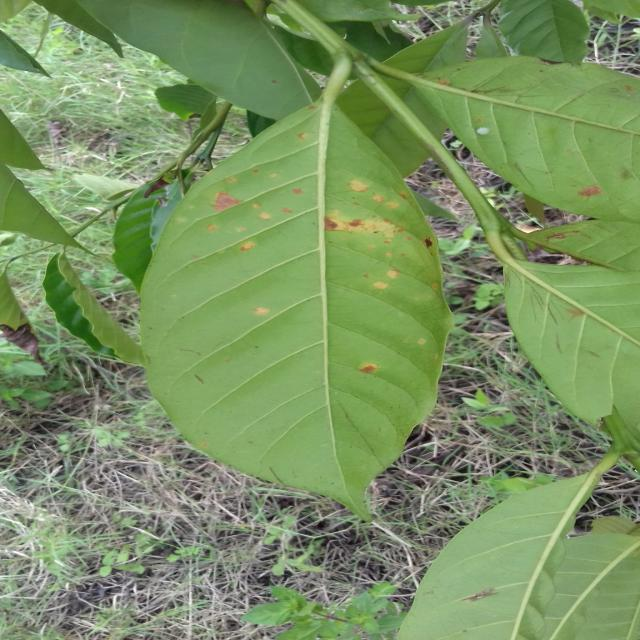Enfermedad-Roya: (139, 84, 451, 520)
